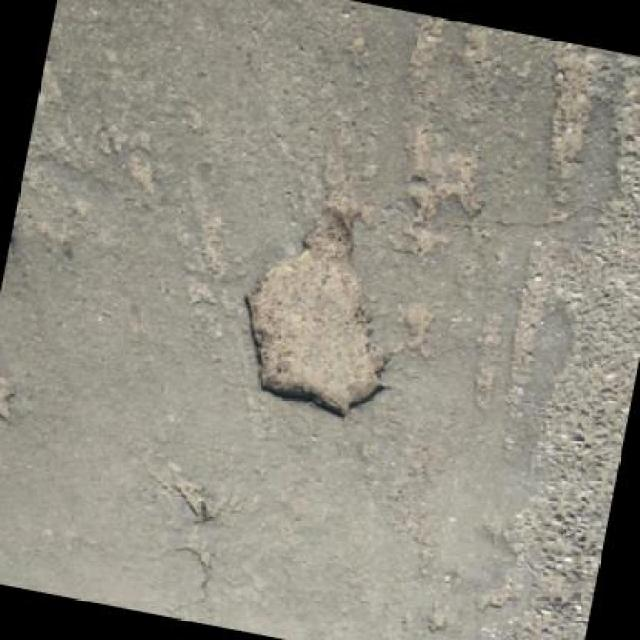pothole1: (218, 197, 424, 432), (167, 475, 216, 523), (0, 363, 25, 426)
